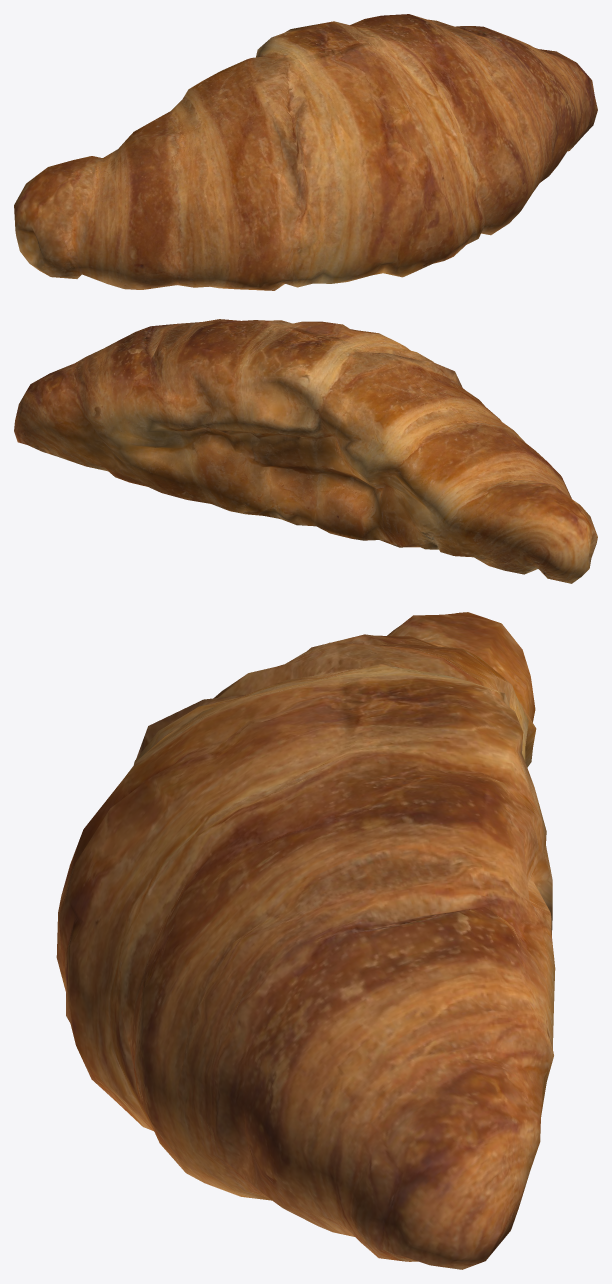
File: croissant.glb
3 renders of one model, top to bottom at view 1: azimuth 30°, elevation 25°; view 2: azimuth 150°, elevation 25°; view 3: azimuth 270°, elevation 25°, orthographic. The views are drawn at different scales.
Parts seen in each view (by area): view 1: croissant; view 2: croissant; view 3: croissant.
Boxes of the visible parts, bbox=[...] form: croissant: bbox=[14, 14, 597, 290]; croissant: bbox=[14, 319, 597, 583]; croissant: bbox=[56, 612, 555, 1269].
Size of the model in its own units: 0.2 by 0.062 by 0.0755.
Materials: 1 (1 with a texture image).
